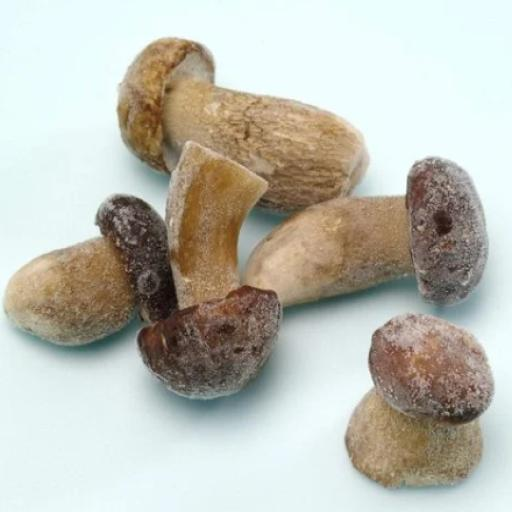mushroom: (249, 152, 493, 322), (120, 30, 357, 191), (337, 312, 500, 490), (9, 185, 179, 352)
